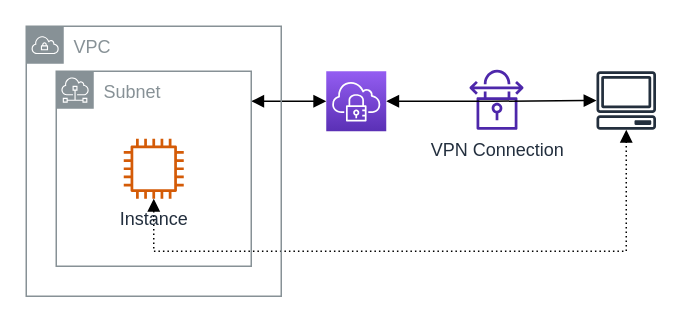
This 693x323 diagram has some shape labels left out. Each missing label, with the centre of its shape:
"클라이언트" belongs at (x=626, y=99).
"클라이언트 VPN Endpoint" belongs at (x=355, y=100).
